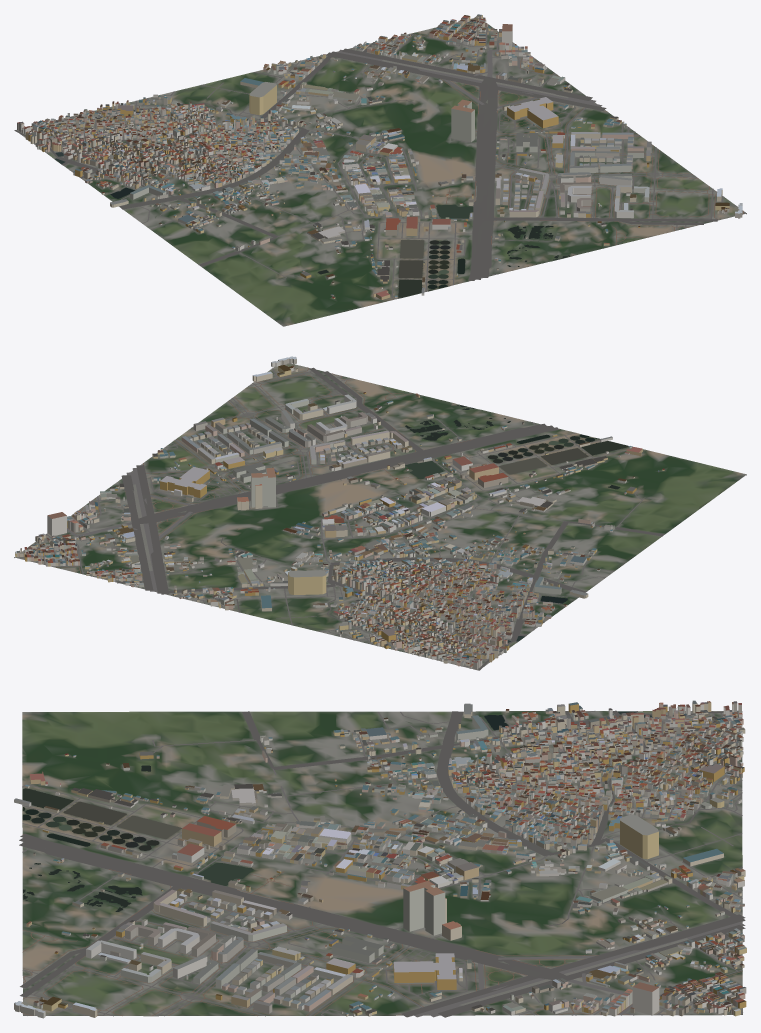
3 views of the same model, one above another, from view 1: azimuth 30°, elevation 25°; view 2: azimuth 150°, elevation 25°; view 3: azimuth 270°, elevation 25° (orthographic). The views are drawn at different scales.
Parts seen in each view (by area): view 1: ground, buildings, roads, water; view 2: ground, buildings, roads, water; view 3: ground, buildings, roads, water.
Boxes of the visible parts, left/top/right/bottom form: ground: left=16, top=18, right=746, bottom=326; buildings: left=17, top=14, right=742, bottom=299; roads: left=14, top=18, right=745, bottom=307; water: left=55, top=152, right=569, bottom=297; ground: left=14, top=363, right=746, bottom=670; buildings: left=15, top=356, right=664, bottom=669; roads: left=17, top=367, right=666, bottom=670; water: left=405, top=404, right=628, bottom=643; ground: left=22, top=711, right=742, bottom=1016; buildings: left=14, top=700, right=746, bottom=1018; roads: left=19, top=710, right=745, bottom=1017; water: left=23, top=711, right=652, bottom=911.
Bounding box in the file's own units: 1430 × 89.82 × 1427.
